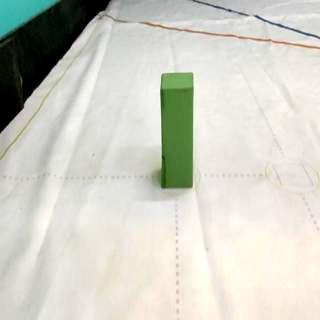greenbox: (158, 70, 196, 189)
